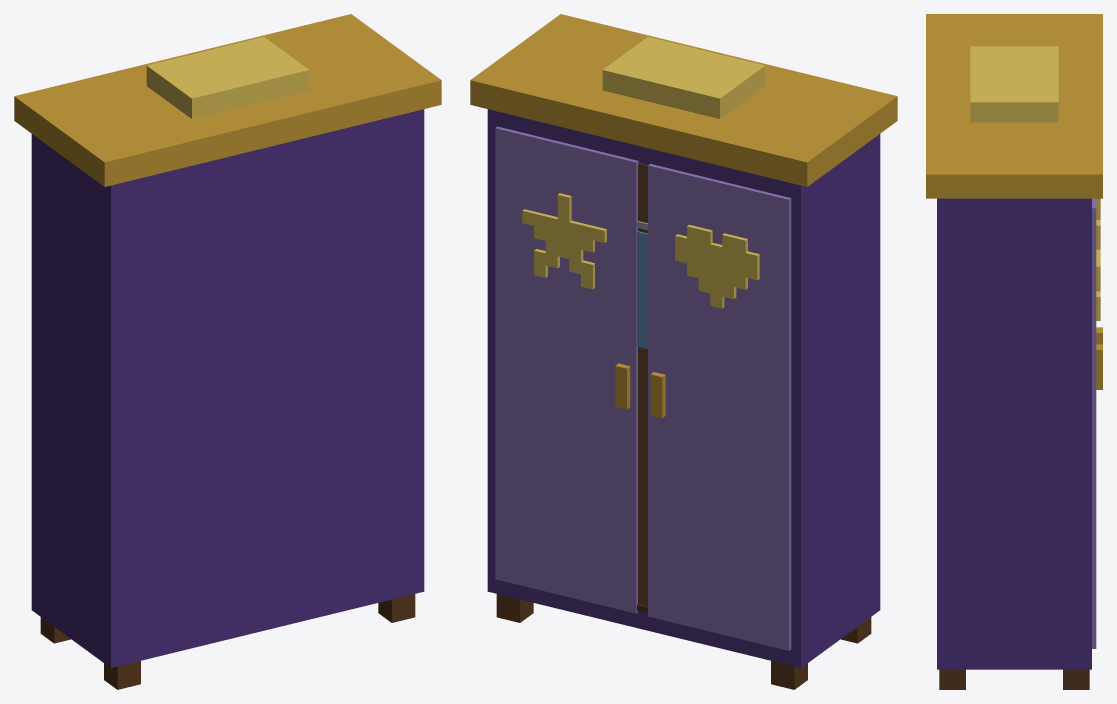
The model's file is ncb-wardrobe-castle.glb.
3 renders of one model, left to right at view 1: azimuth 30°, elevation 25°; view 2: azimuth 150°, elevation 25°; view 3: azimuth 270°, elevation 25°, orthographic. The views are drawn at different scales.
Parts seen in each view (by area): view 1: box-prop; view 2: box-prop, part-door-left, part-door-right; view 3: box-prop, part-door-right.
Part boxes in pixels (box(x1,y1,x2,y2)): box-prop: box(14, 14, 441, 689); box-prop: box(470, 14, 897, 689); part-door-left: box(648, 164, 791, 650); part-door-right: box(495, 126, 638, 613); box-prop: box(926, 14, 1102, 689); part-door-right: box(1092, 198, 1102, 648).
Bounding box in the file's own units: 1.72 × 2.72 × 0.8.
